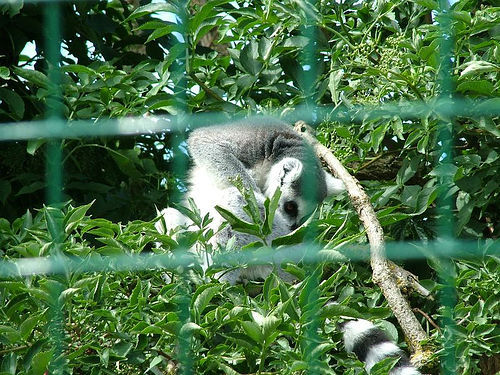cat: (141, 102, 351, 268)
